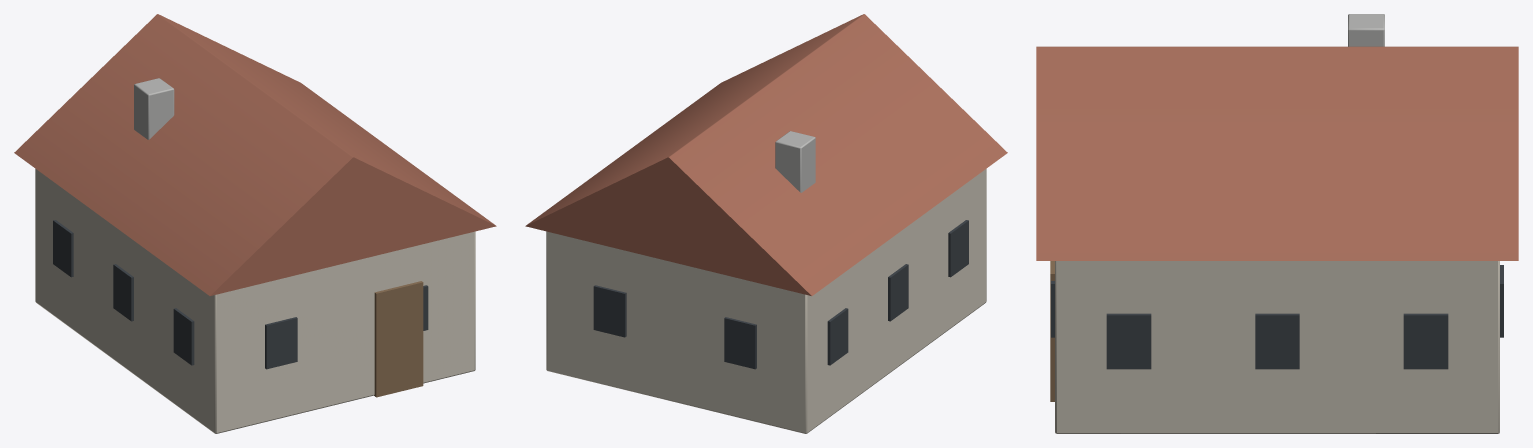
Rendered from Scenery_House_A.fbx.
The picture shows the model from 3 angles, left to right: view 1: azimuth 30°, elevation 25°; view 2: azimuth 150°, elevation 25°; view 3: azimuth 270°, elevation 25°; orthographic projection. The views are drawn at different scales.
Parts seen in each view (by area): view 1: Roof, Walls, Door, Chimney, WinEnd_-1_0_0, WinSide_-1_0_0, WinSide_-1_0_1, WinSide_-1_0_2; view 2: Roof, Walls, Chimney, WinEnd_1_0_1, WinEnd_1_0_0, WinSide_-1_0_2, WinSide_-1_0_1, WinSide_-1_0_0; view 3: Roof, Walls, WinSide_1_0_0, WinSide_1_0_2, WinSide_1_0_1, Chimney, Door.
Part boxes in pixels (x1=…): Roof: x1=14, y1=14, x2=496, y2=295; Walls: x1=35, y1=169, x2=475, y2=433; Door: x1=374, y1=281, x2=423, y2=397; Chimney: x1=134, y1=78, x2=174, y2=139; WinEnd_-1_0_0: x1=265, y1=317, x2=297, y2=369; WinSide_-1_0_0: x1=173, y1=308, x2=194, y2=365; WinSide_-1_0_1: x1=113, y1=264, x2=133, y2=321; WinSide_-1_0_2: x1=53, y1=220, x2=73, y2=277; Roof: x1=525, y1=14, x2=1007, y2=295; Walls: x1=546, y1=169, x2=986, y2=433; Chimney: x1=775, y1=131, x2=815, y2=192; WinEnd_1_0_1: x1=593, y1=285, x2=626, y2=337; WinEnd_1_0_0: x1=724, y1=317, x2=756, y2=369; WinSide_-1_0_2: x1=827, y1=308, x2=848, y2=365; WinSide_-1_0_1: x1=888, y1=264, x2=908, y2=321; WinSide_-1_0_0: x1=948, y1=220, x2=968, y2=277; Roof: x1=1036, y1=46, x2=1518, y2=260; Walls: x1=1055, y1=261, x2=1499, y2=433; WinSide_1_0_0: x1=1106, y1=313, x2=1151, y2=369; WinSide_1_0_2: x1=1403, y1=313, x2=1448, y2=369; WinSide_1_0_1: x1=1255, y1=313, x2=1299, y2=369; Chimney: x1=1348, y1=14, x2=1384, y2=46; Door: x1=1050, y1=261, x2=1054, y2=401.
Size of the model in its own units: 5.5 by 4.6 by 6.5.
